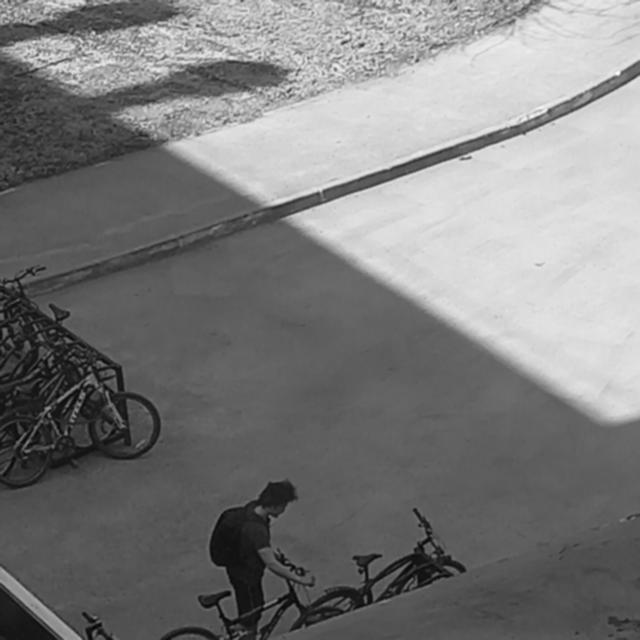Invader: (206, 476, 317, 640)
